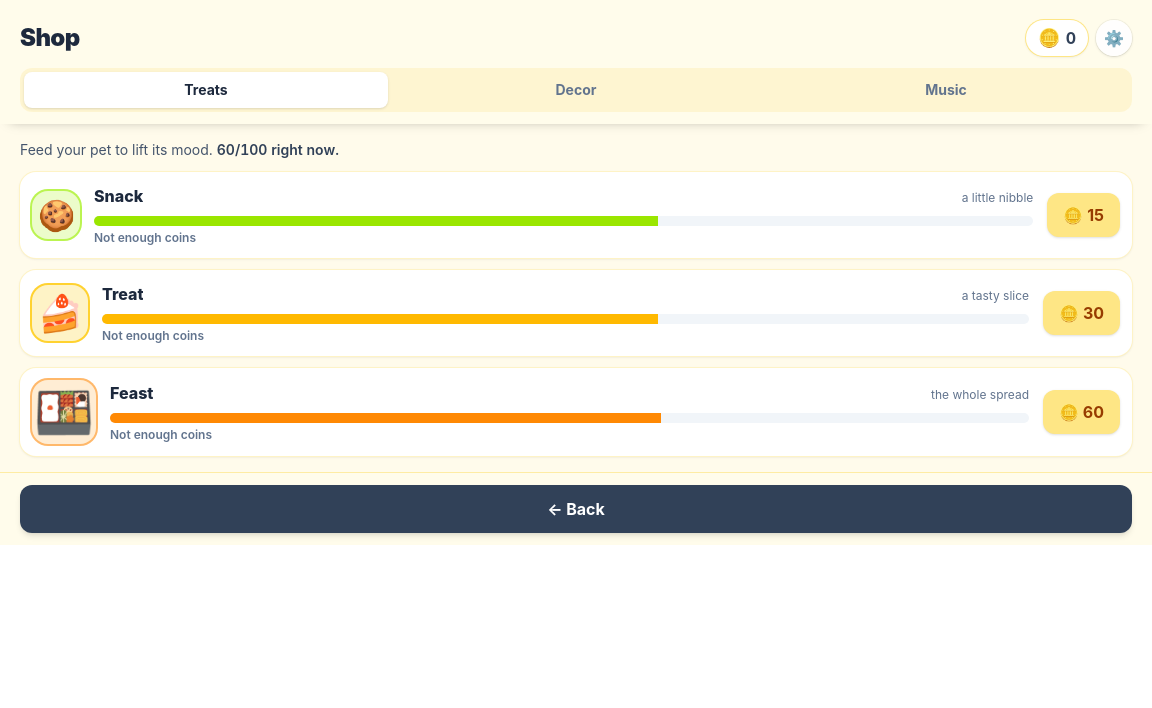
Test case: Shop › switching to Music tab shows track rows incl. the free default and a buyable track
Click the tab "music": (946,90) [764, 72, 1128, 108]
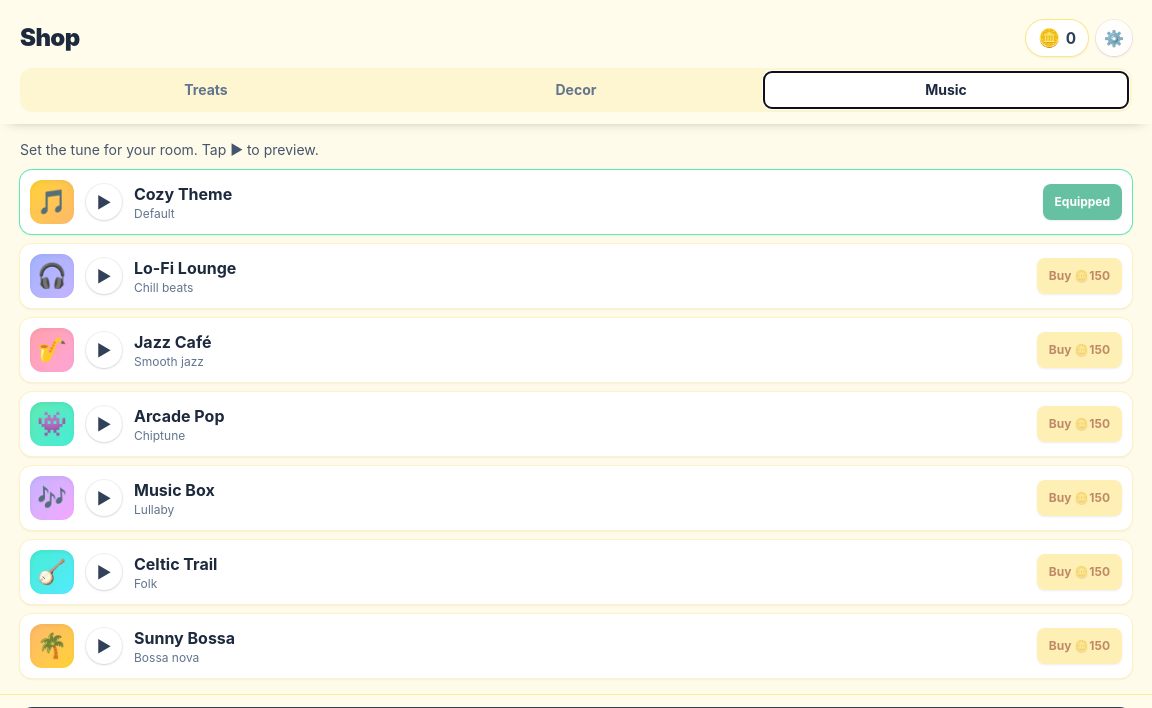
Expected: the text "Cozy Theme" is shown, [134, 184, 232, 204]
Expected: the text "Lo-Fi Lounge" is shown, [134, 258, 236, 278]
Expected: the button with aria-label "equipped cozy theme" is shown, [1043, 184, 1122, 220]
